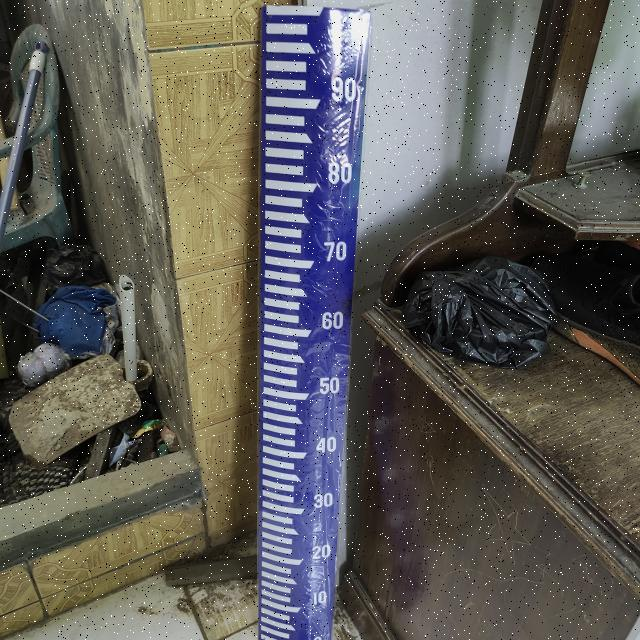10: (311, 587, 330, 607)
20: (308, 542, 332, 562)
30: (311, 489, 335, 510)
40: (313, 433, 339, 456)
50: (316, 374, 342, 396)
60: (320, 309, 348, 332)
70: (323, 240, 350, 266)
80: (325, 158, 357, 190)
90: (330, 74, 359, 103)
staff: (262, 2, 370, 640)
